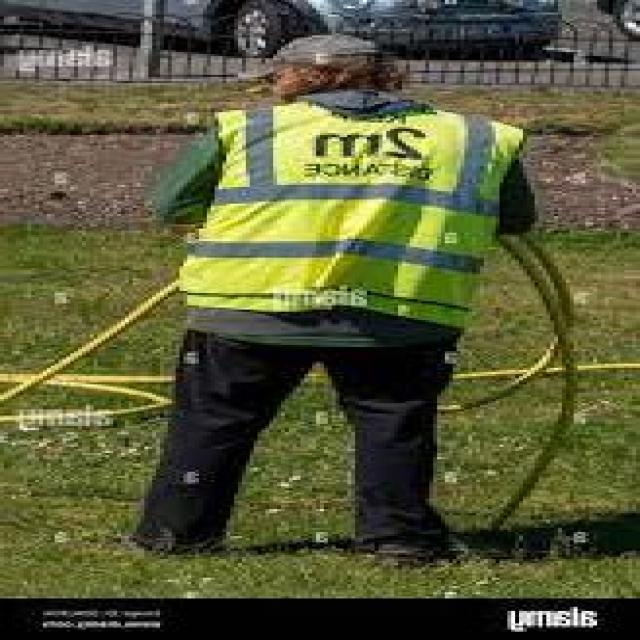Reflective-Jacket: (152, 96, 550, 337)
Safety-Helmet: (250, 27, 402, 79)
